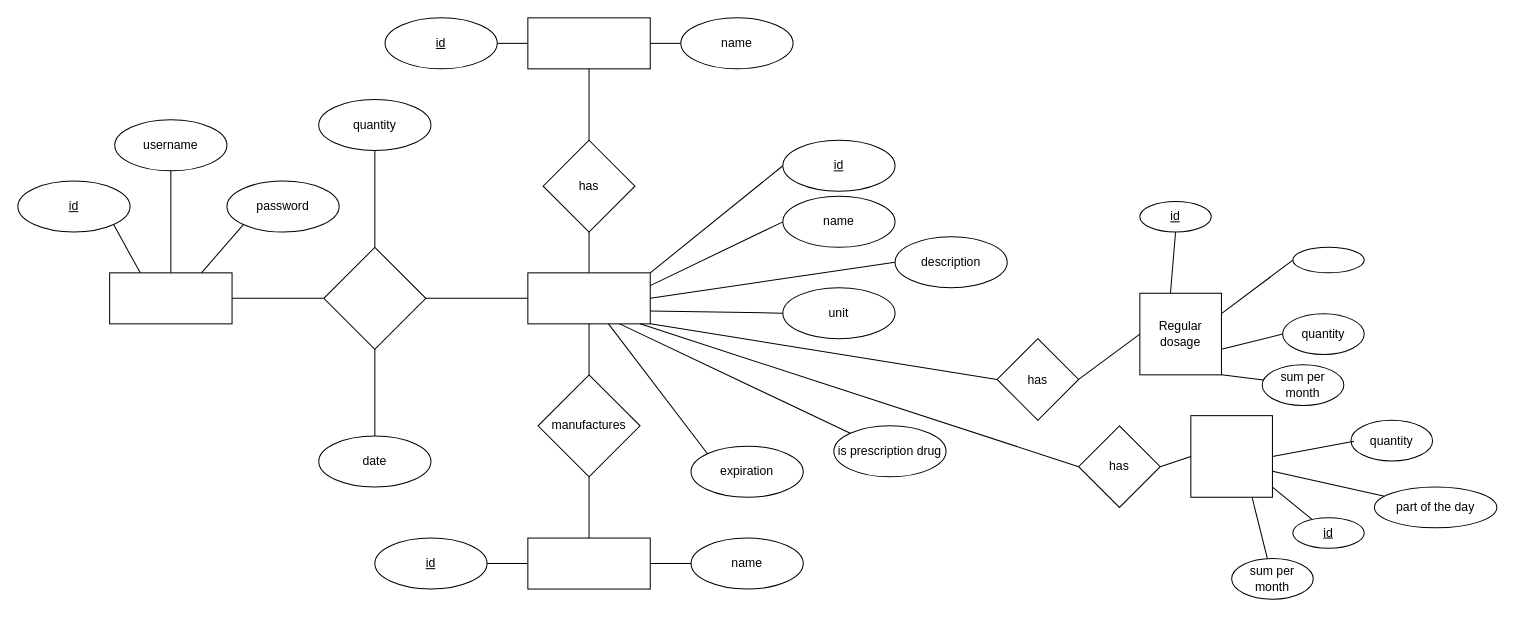
This 1515x617 diagram has some shape labels left out. The shapes that lost their labels are listed below. From the top down, each one's centre as x and y in pixels, then its label:
At (x=588, y=43): "Genre".
At (x=1328, y=259): "days".
At (x=170, y=298): "User".
At (x=374, y=297): "records".
At (x=588, y=298): "Medicine".
At (x=1231, y=456): "Cure-like dosage".
At (x=588, y=563): "Manufacturer".
